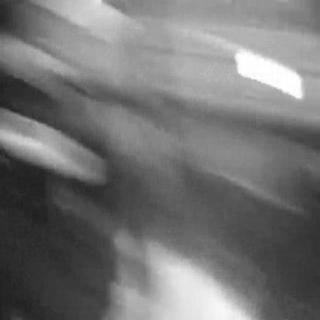other: (234, 37, 302, 111)
